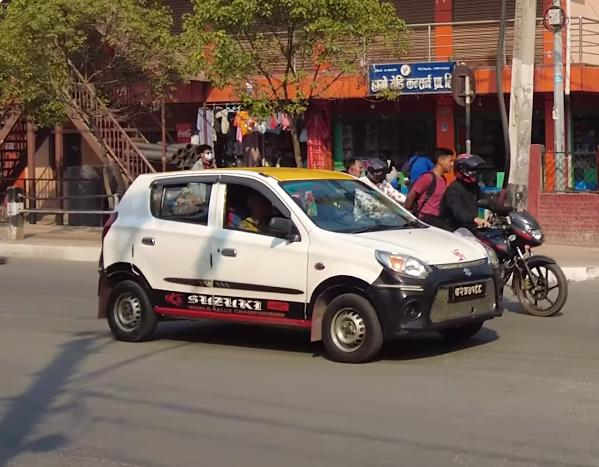bike: (416, 197, 574, 321)
taxi: (96, 162, 506, 375)
